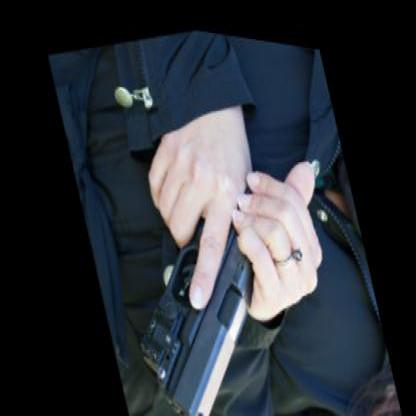pistol: (89, 108, 316, 413)
